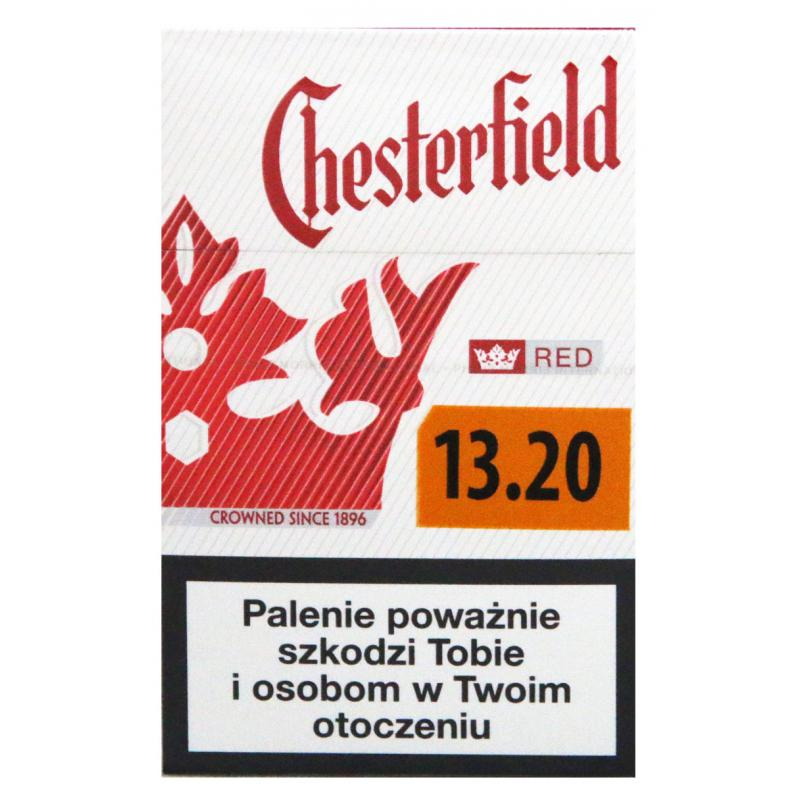chesterfield_red: (165, 36, 634, 776)
